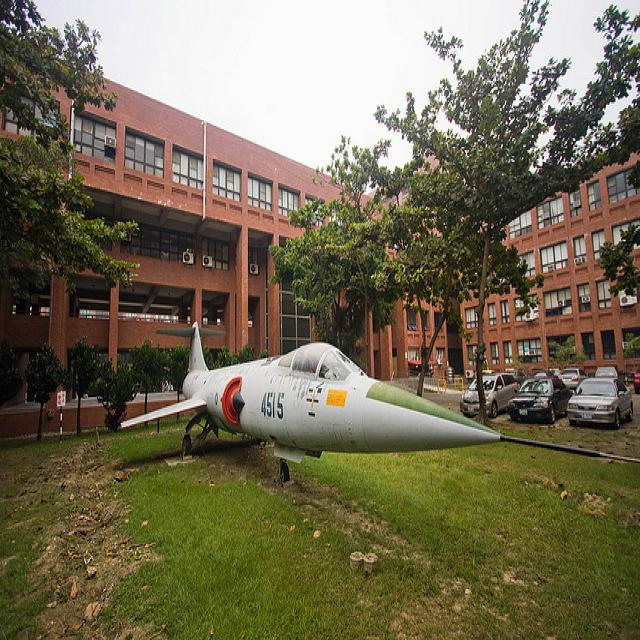Vehicle: (567, 375, 634, 427), (508, 376, 572, 424), (459, 367, 519, 415), (559, 368, 589, 388), (595, 366, 619, 380), (632, 363, 640, 393)
